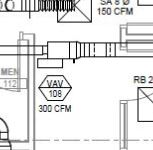VAV: (36, 37, 83, 71)
